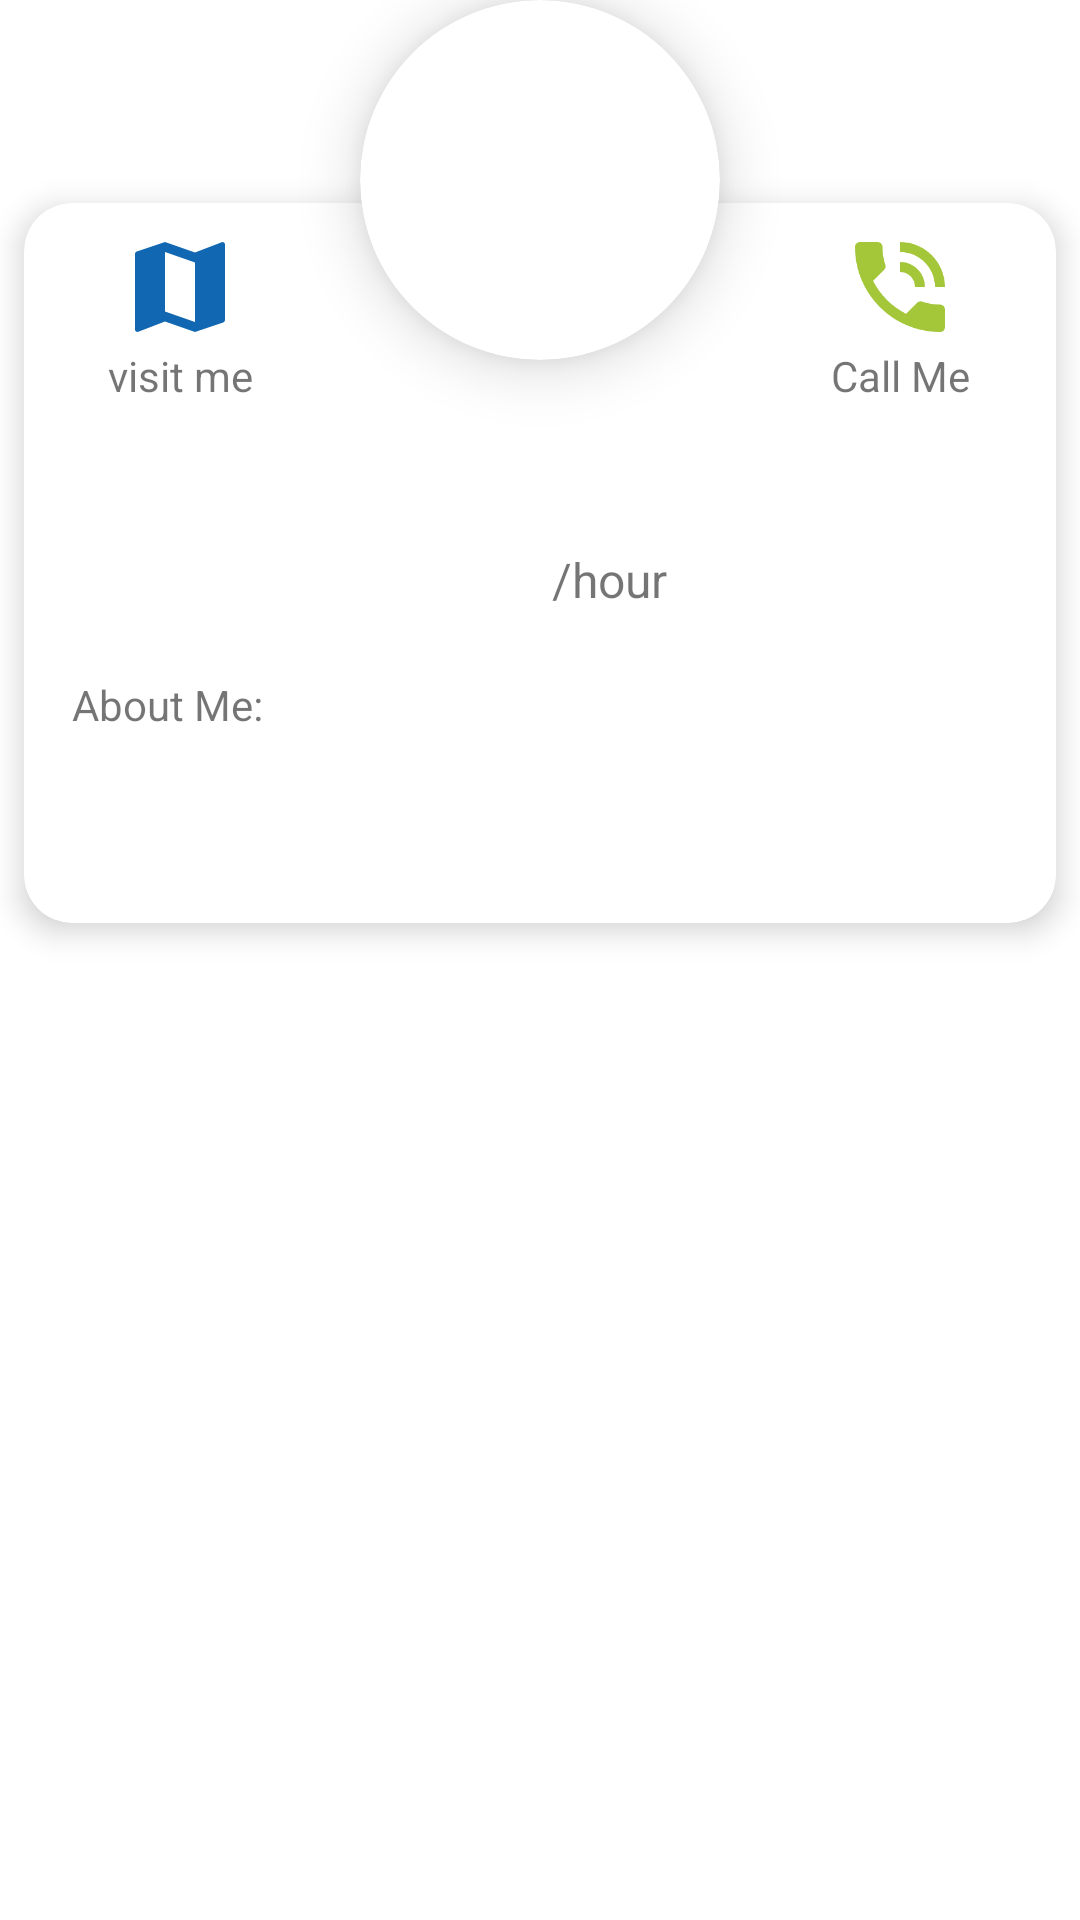

Icon click points for this 1080w x 1920h phone screenshot, format (x,y):
map: (180,287)
phone in talk: (900,287)
